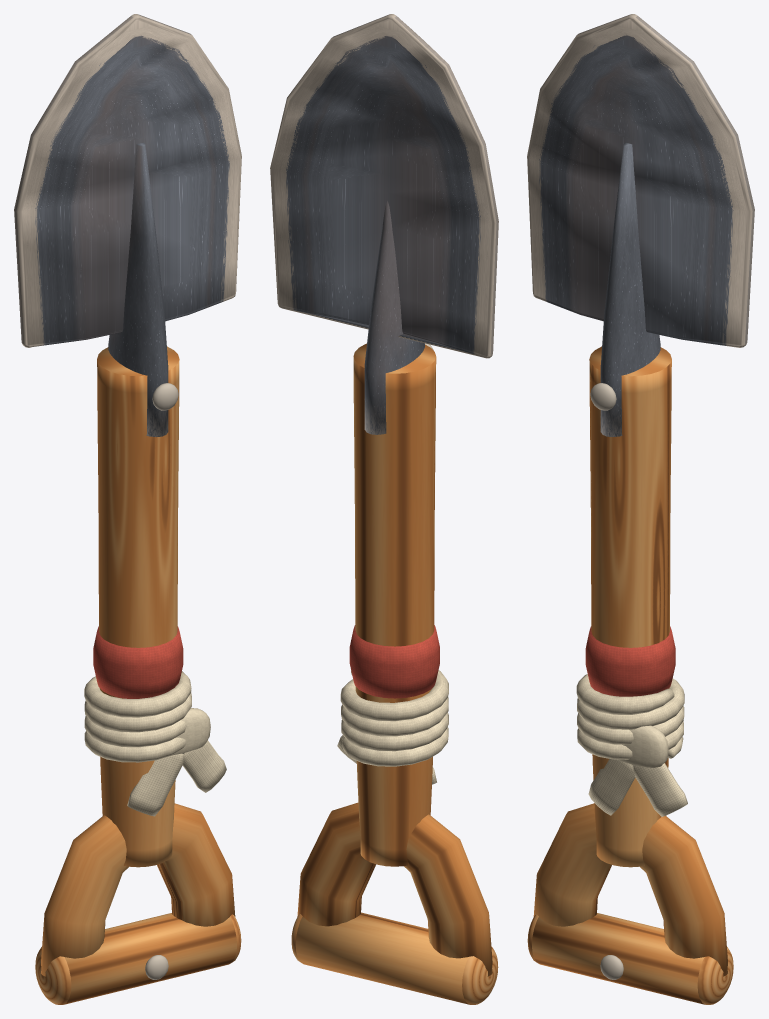
The model's file is shovel.glb.
The picture shows the model from 3 angles, left to right: view 1: azimuth 30°, elevation 25°; view 2: azimuth 150°, elevation 25°; view 3: azimuth 330°, elevation 25°; orthographic projection.
Visible parts, largest first — view 1: model; view 2: model; view 3: model.
Boxes of the visible parts, <box> form: model: <box>14,14,241,1004</box>; model: <box>270,14,498,1004</box>; model: <box>527,14,754,1004</box>.
Bounding box in the file's own units: 0.196 × 0.802 × 0.0876.
Materials: 7 (6 with a texture image).
